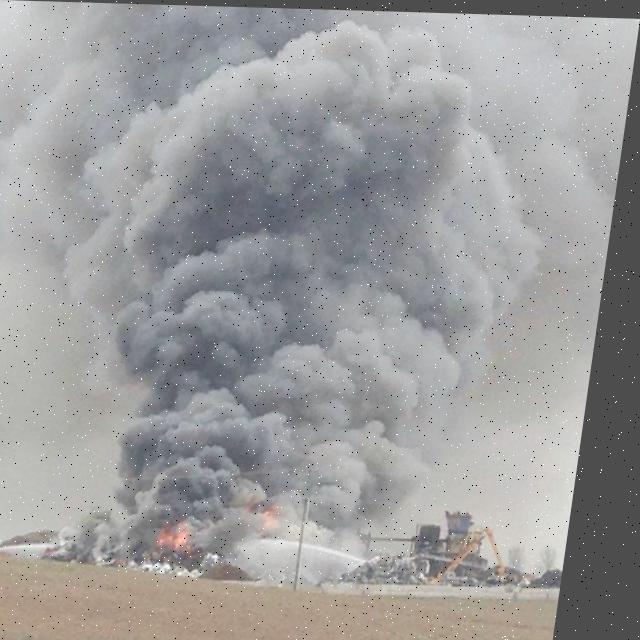Fire: (170, 521, 212, 553), (274, 505, 300, 531)
